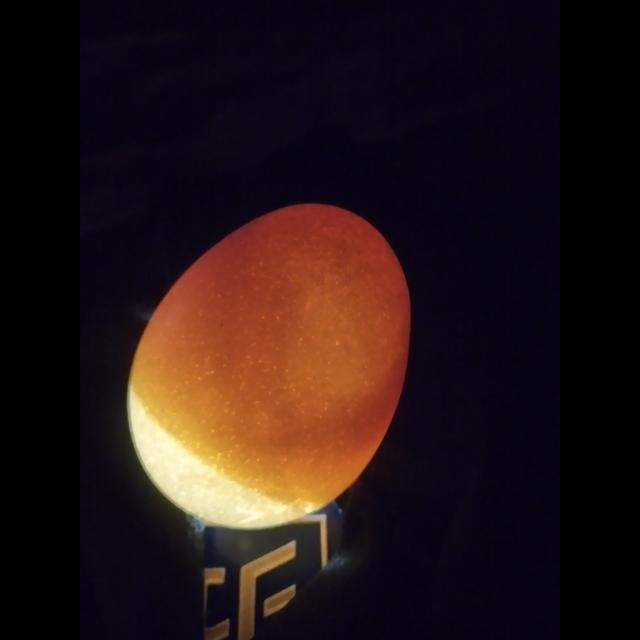Infertile: (125, 200, 428, 524)
